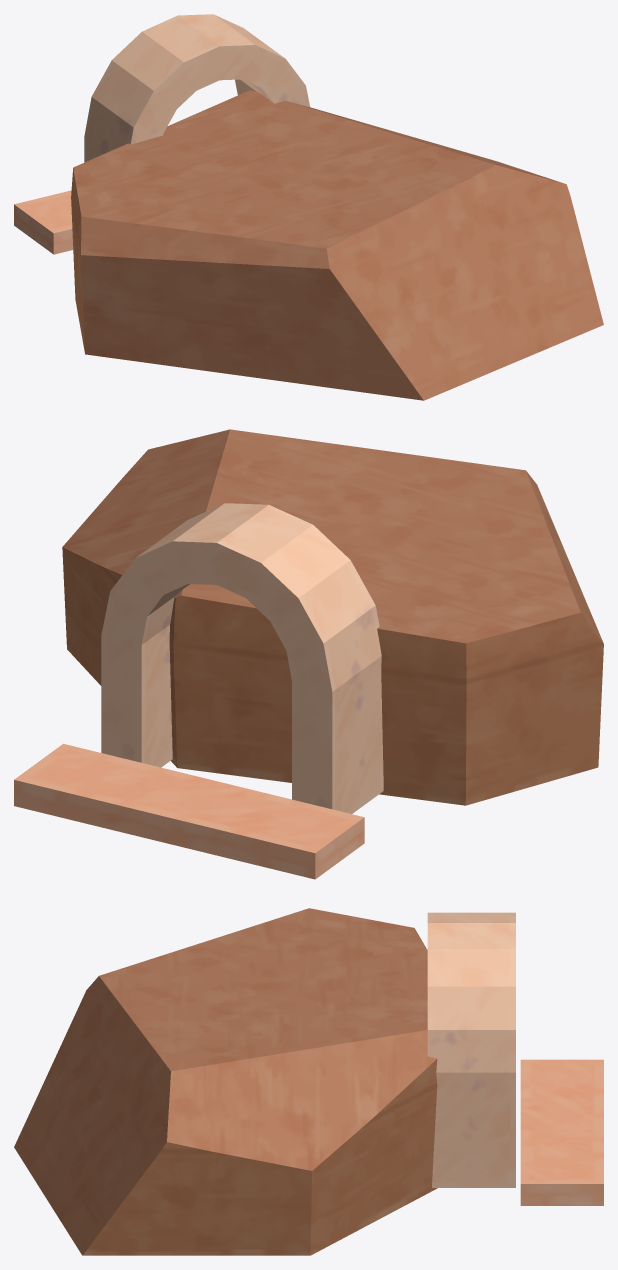
The model's file is kiln_s01.fbx.
3 views of the same model, one above another, from view 1: azimuth 30°, elevation 25°; view 2: azimuth 150°, elevation 25°; view 3: azimuth 270°, elevation 25° (orthographic). The views are drawn at different scales.
Visible parts, largest first — view 1: kiln_s01; view 2: kiln_s01; view 3: kiln_s01.
Boxes of the visible parts, bbox=[...] form: kiln_s01: bbox=[14, 14, 603, 400]; kiln_s01: bbox=[14, 429, 603, 879]; kiln_s01: bbox=[14, 908, 603, 1255].
Size of the model in its own units: 5.27 by 2.49 by 6.03.
